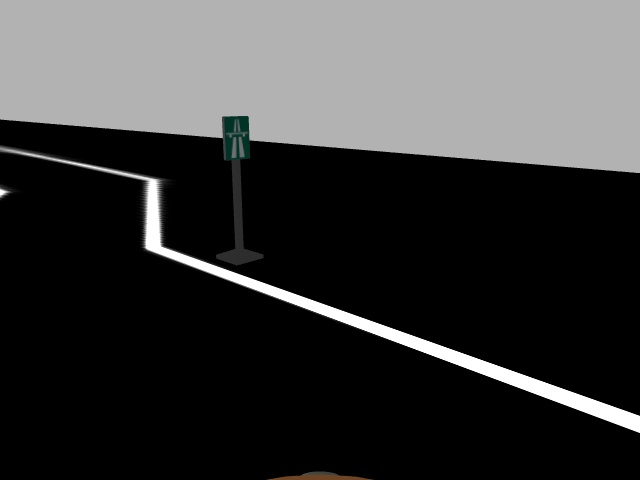enter_highway: (220, 115, 253, 160)
